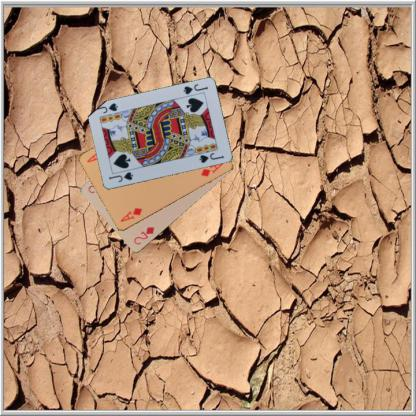2d: (131, 224, 156, 246)
Ad: (118, 205, 143, 224)
Js: (180, 81, 209, 96), (106, 169, 134, 184)
